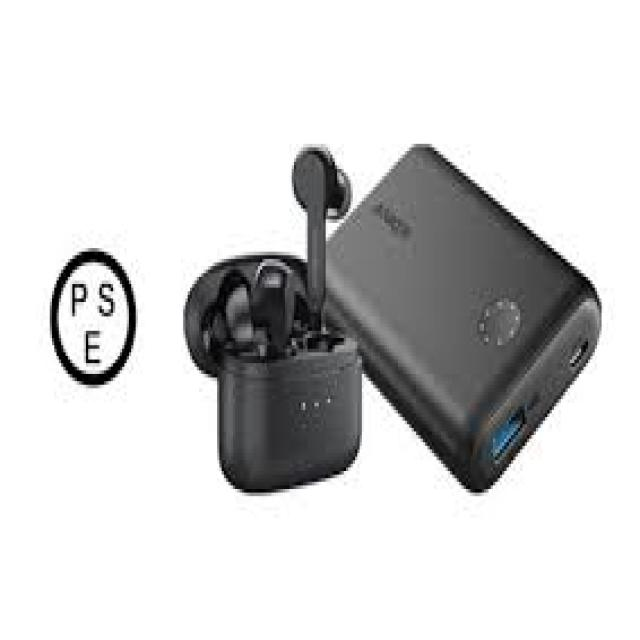battery: (326, 144, 599, 489)
